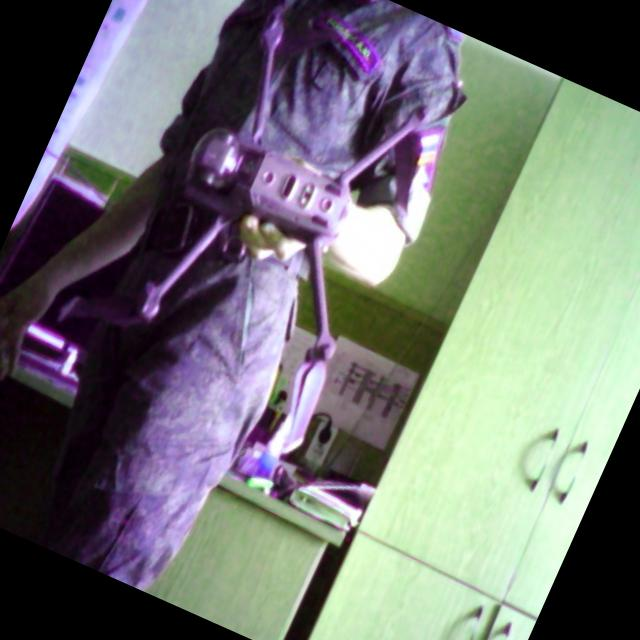drone: (107, 0, 485, 415)
